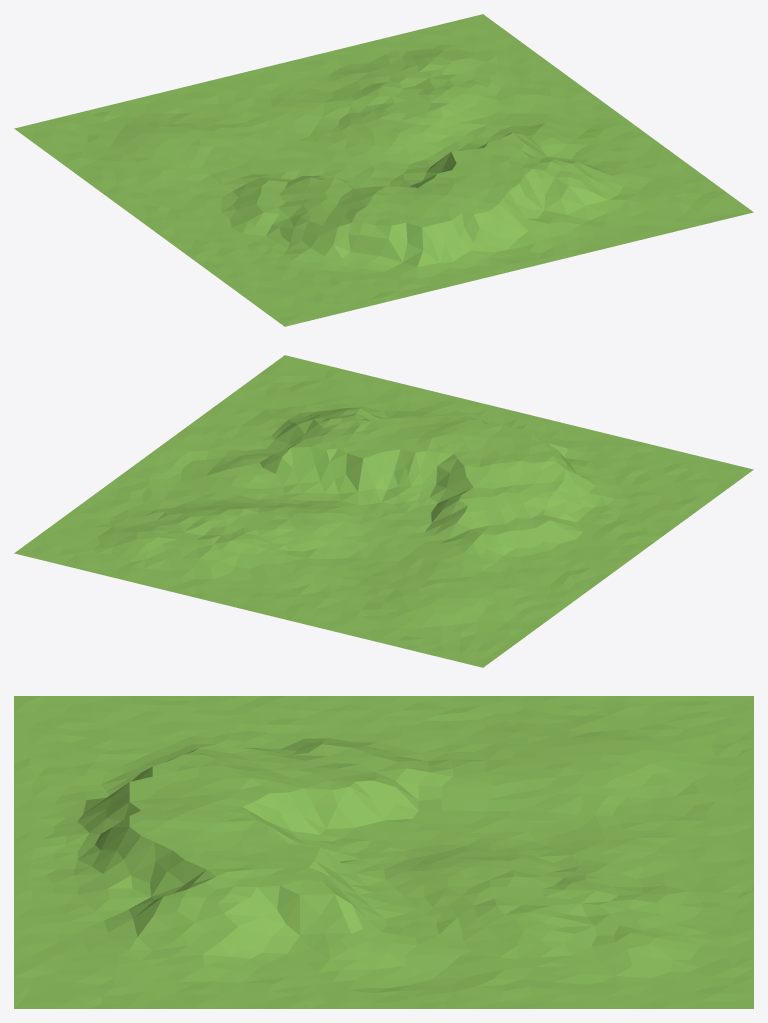
Rendered from MT_Terrain_L_d_05.fbx.
3 views of the same model, one above another, from view 1: azimuth 30°, elevation 25°; view 2: azimuth 150°, elevation 25°; view 3: azimuth 270°, elevation 25° (orthographic). The views are drawn at different scales.
Parts seen in each view (by area): view 1: MT_Terrain_L_d_05; view 2: MT_Terrain_L_d_05; view 3: MT_Terrain_L_d_05.
Part boxes in pixels (x1,y1,x2,y2): MT_Terrain_L_d_05: (14,14,753,326); MT_Terrain_L_d_05: (14,355,753,667); MT_Terrain_L_d_05: (14,696,753,1008).
Size of the model in its own units: 10000 by 623 by 10000.
